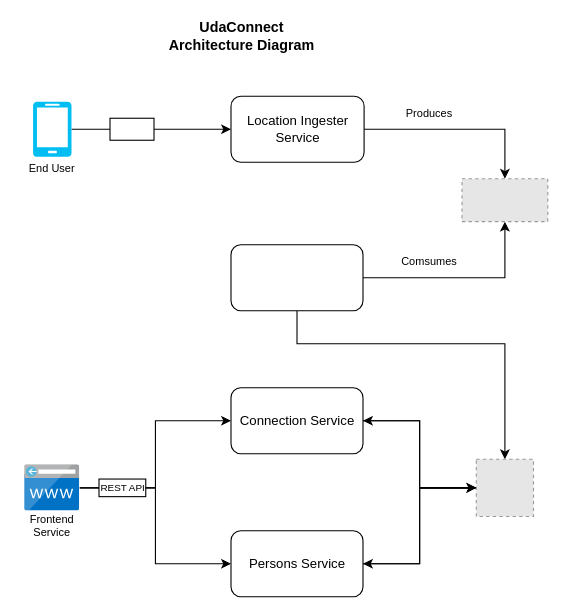
This 567x616 diagram has some shape labels left out. Grey dashed boxes stand in for pictures. Here are the shapes that lost their labels. From the top down, the centre of each, then its label:
the point at 131,128: gRPC
the point at 296,277: Location Services
